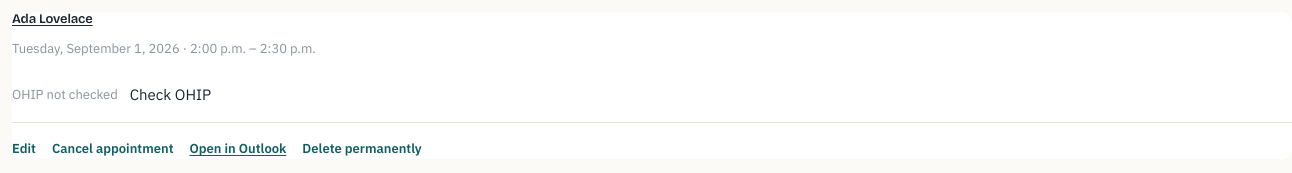
Test: AppointmentDetail › OHIP coverage › re-checks coverage on demand
This screenshot has width=1292, height=173.
Click the button "Check OHIP" at (170, 95), box top-left (130, 83), bottom-right (211, 106)
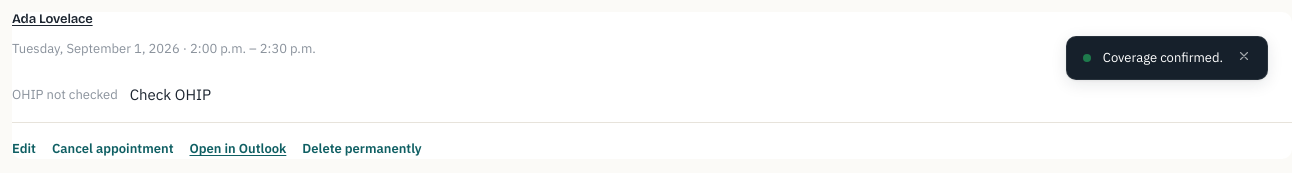
Expected: the text "Coverage confirmed." is shown, top-left (1103, 49), bottom-right (1223, 66)
